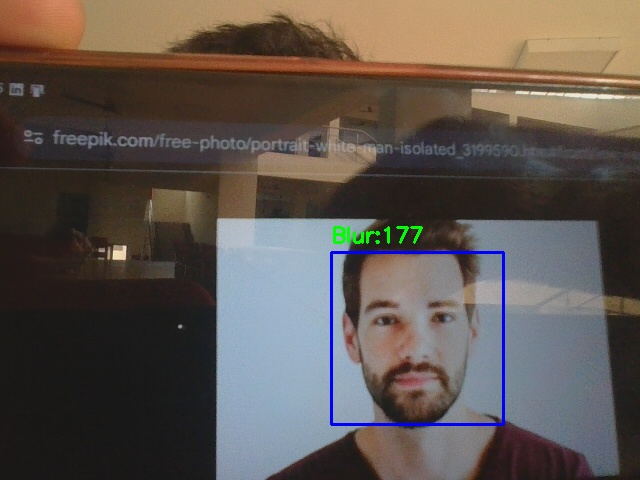fake: (331, 252, 503, 424)
